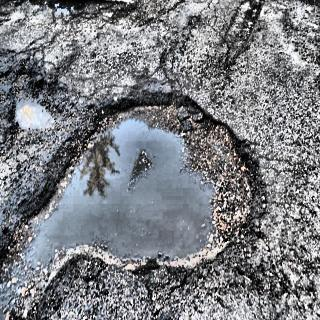pothole: (0, 92, 267, 320), (11, 88, 56, 144)
